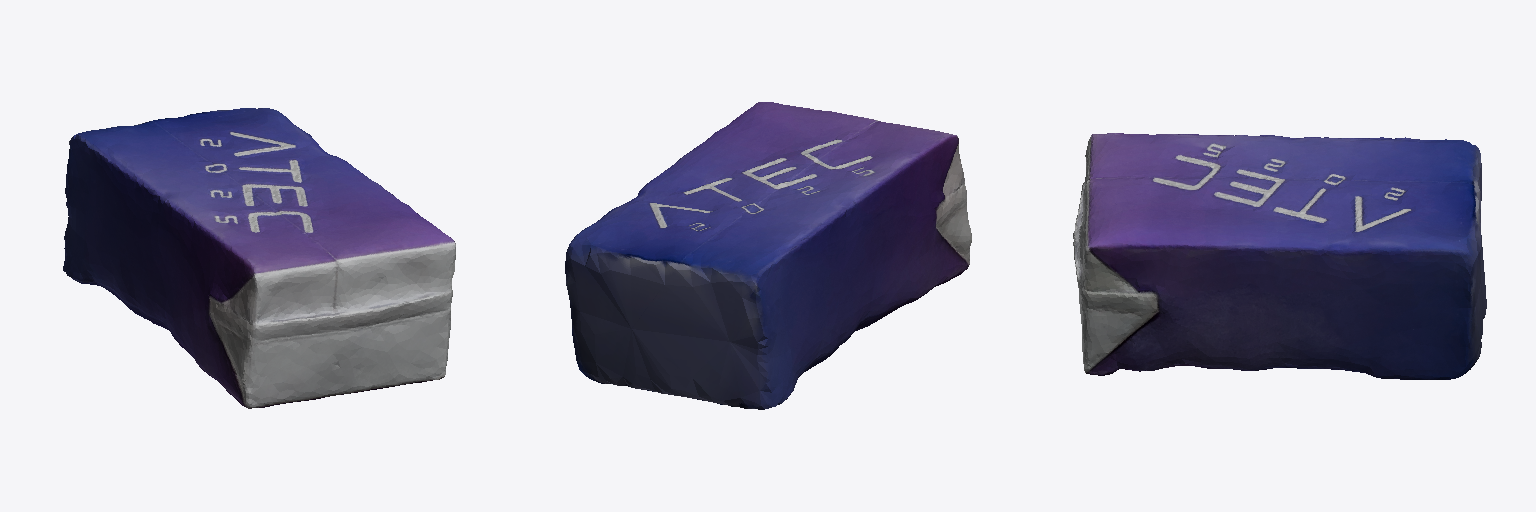
3 renders of one model, left to right at view 1: azimuth 30°, elevation 25°; view 2: azimuth 150°, elevation 25°; view 3: azimuth 270°, elevation 25°, orthographic.
Visible parts, largest first — view 1: obj1; view 2: obj1; view 3: obj1.
Boxes of the visible parts, x1=… form: obj1: x1=63, y1=108, x2=455, y2=408; obj1: x1=565, y1=102, x2=971, y2=409; obj1: x1=1073, y1=133, x2=1486, y2=379.
Bounding box in the file's own units: 0.0666 × 0.0465 × 0.1094.
Materials: 1 (1 with a texture image).